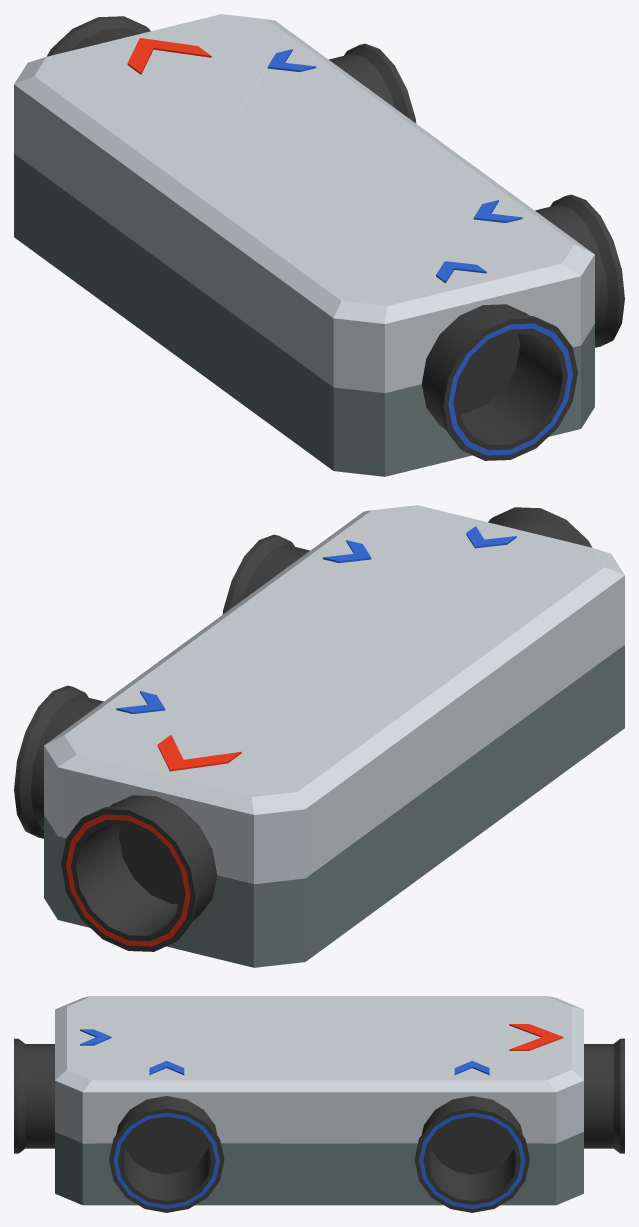
The model's file is m_Dev_LargeMachine.fbx.
The picture shows the model from 3 angles, top to bottom: view 1: azimuth 30°, elevation 25°; view 2: azimuth 150°, elevation 25°; view 3: azimuth 270°, elevation 25°; orthographic projection. The views are drawn at different scales.
Visible parts, largest first — view 1: DevLargeMachine; view 2: DevLargeMachine; view 3: DevLargeMachine.
Part boxes in pixels (x1,y1,x2,y2): DevLargeMachine: [14, 14, 624, 476]; DevLargeMachine: [14, 505, 624, 967]; DevLargeMachine: [14, 996, 624, 1212].
Bounding box in the file's own units: 86.58 × 43.85 × 200.
